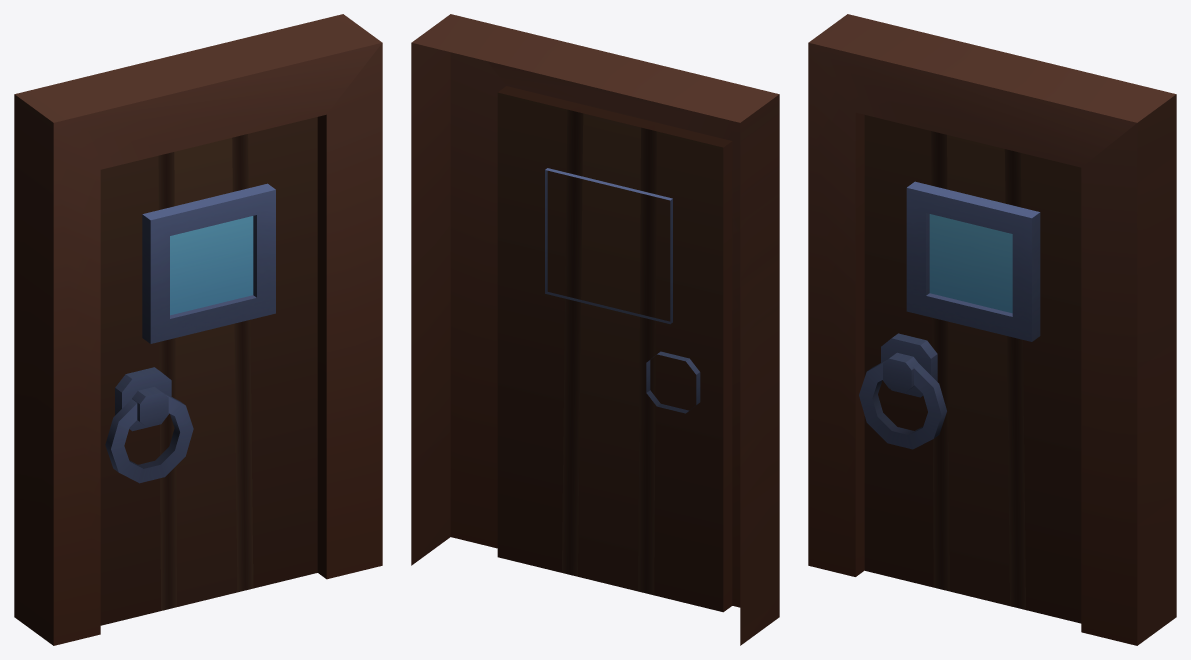
The model's file is Door_05A.fbx.
3 views of the same model, side by side, from view 1: azimuth 30°, elevation 25°; view 2: azimuth 150°, elevation 25°; view 3: azimuth 330°, elevation 25° (orthographic).
Parts seen in each view (by area): view 1: Door_05A; view 2: Door_05A; view 3: Door_05A.
Part boxes in pixels (x1,y1,x2,y2): Door_05A: (14, 14, 382, 645); Door_05A: (411, 14, 779, 645); Door_05A: (808, 14, 1176, 645).
Bounding box in the file's own units: 154 × 234 × 36.54.
Materials: 3 (3 with a texture image).
